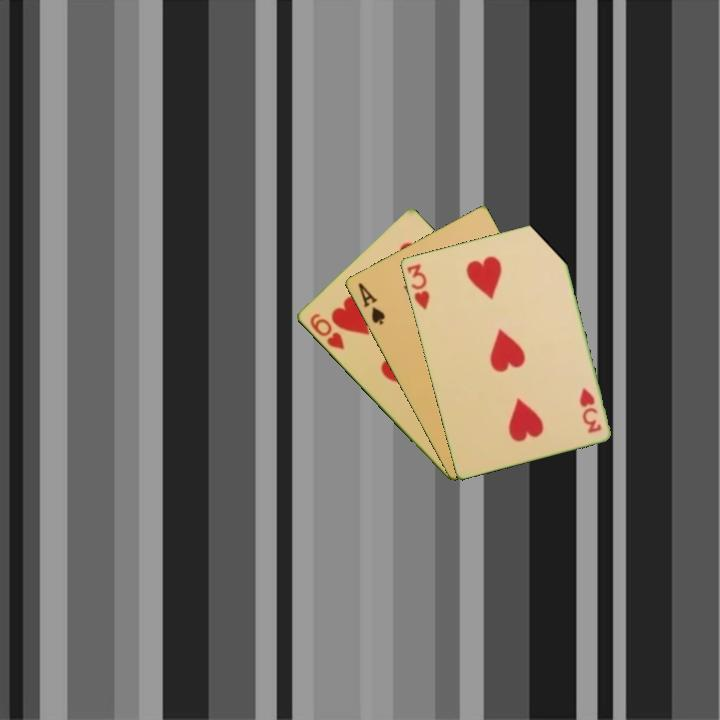3h: (403, 260, 432, 312), (576, 384, 604, 436)
6h: (306, 310, 347, 353)
As: (354, 279, 388, 328)
